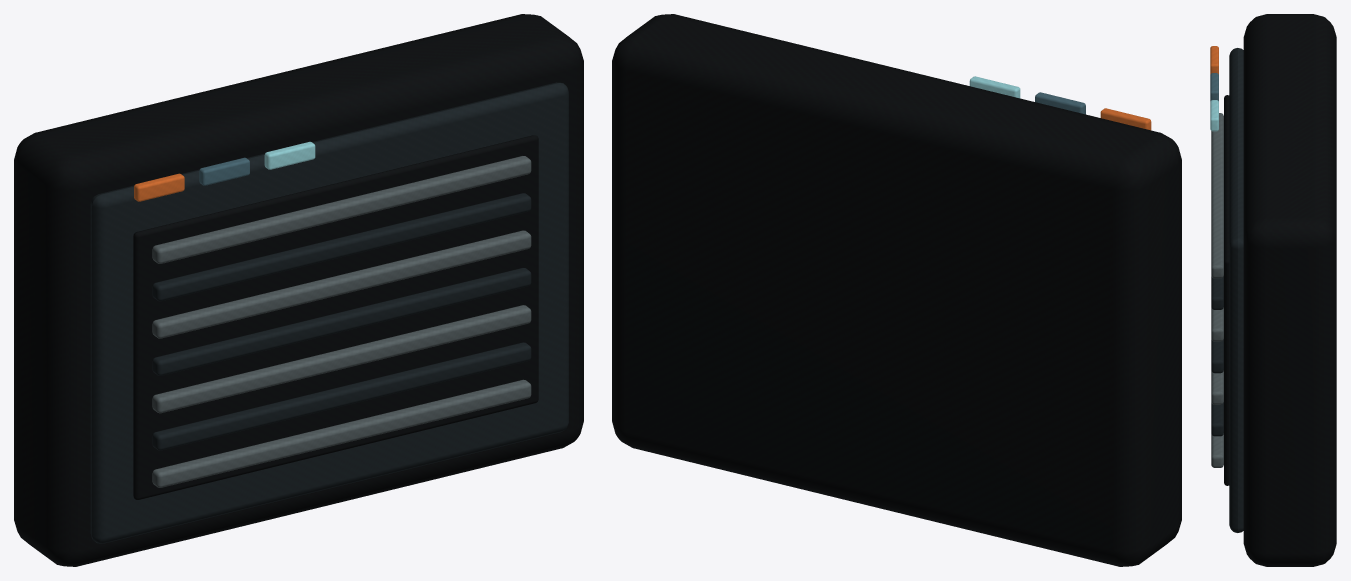
Rendered from WallVent.glb.
3 views of the same model, side by side, from view 1: azimuth 30°, elevation 25°; view 2: azimuth 150°, elevation 25°; view 3: azimuth 270°, elevation 25° (orthographic). The views are drawn at different scales.
Parts seen in each view (by area): view 1: WallVent_Mesh; view 2: WallVent_Mesh; view 3: WallVent_Mesh.
Boxes of the visible parts, x1,y1,x2,y2 form: WallVent_Mesh: (14, 14, 583, 566); WallVent_Mesh: (612, 14, 1181, 566); WallVent_Mesh: (1210, 14, 1336, 566).
Size of the model in its own units: 0.9 by 0.66 by 0.2175.
6 materials, 6 textured.
